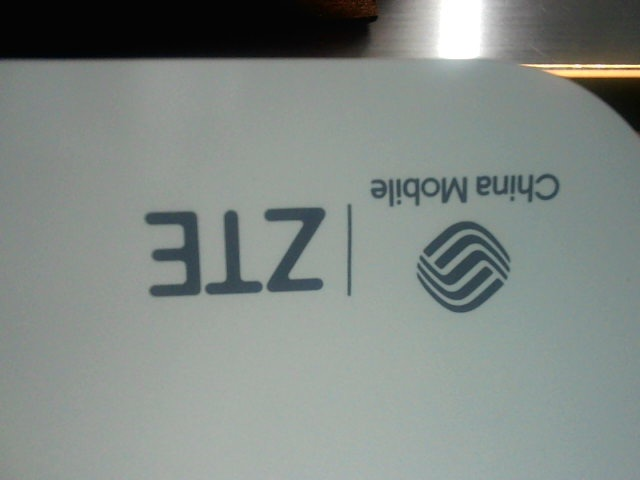AL_ZTEChinaMobile: (101, 159, 598, 328)
